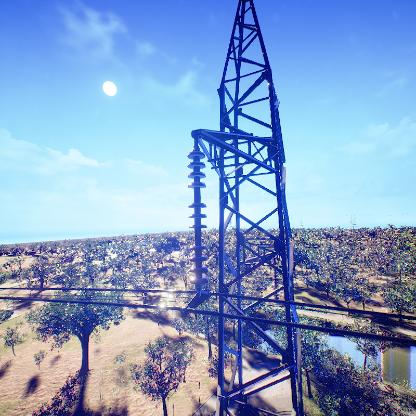insulator: (186, 148, 209, 291)
